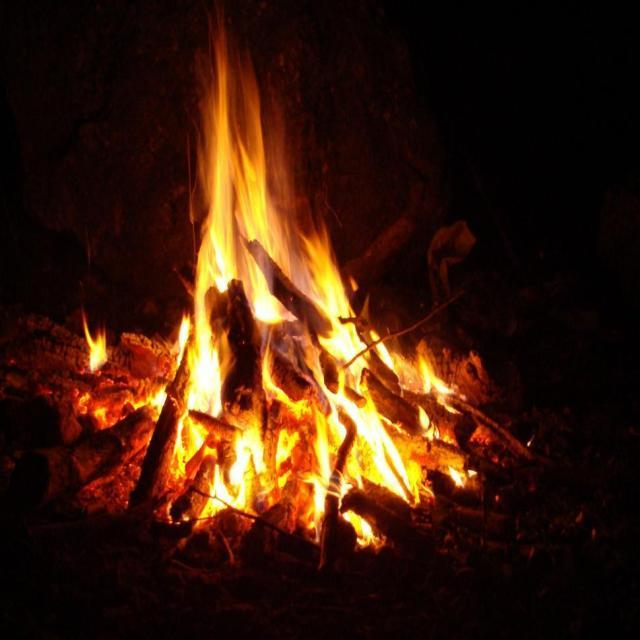Fire: (150, 15, 446, 538), (83, 313, 107, 372)
